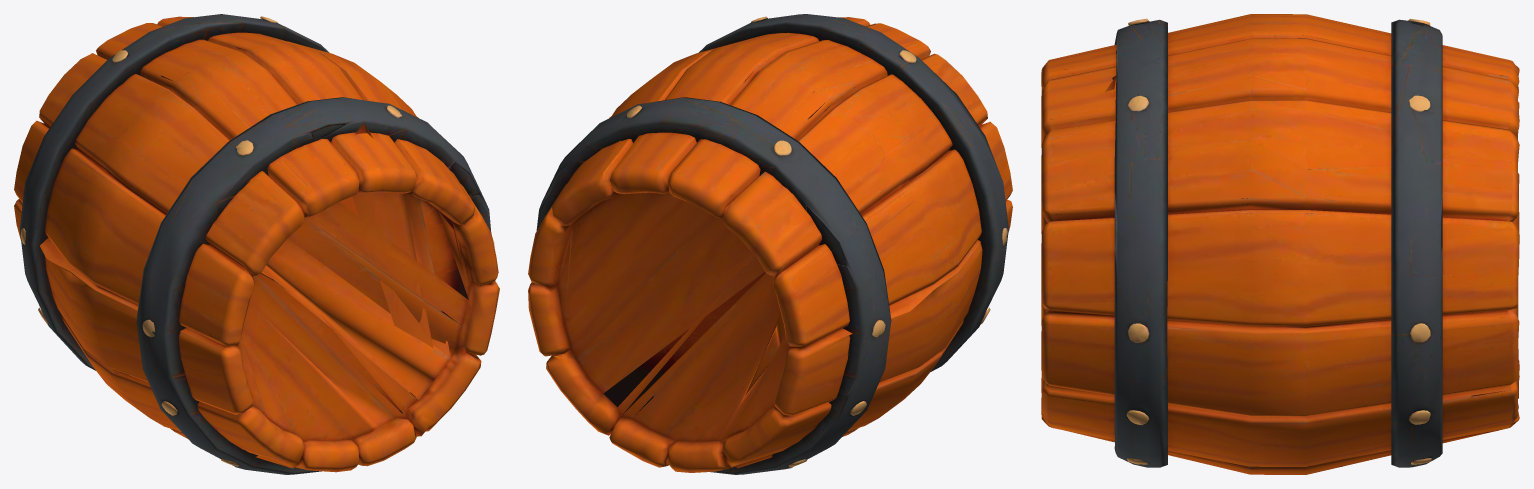
The model's file is barrel.glb.
The picture shows the model from 3 angles, left to right: view 1: azimuth 30°, elevation 25°; view 2: azimuth 150°, elevation 25°; view 3: azimuth 270°, elevation 25°; orthographic projection. The views are drawn at different scales.
Parts seen in each view (by area): view 1: geometry_0; view 2: geometry_0; view 3: geometry_0.
Boxes of the visible parts, left/top/right/bottom form: geometry_0: left=14, top=14, right=499, bottom=474; geometry_0: left=528, top=14, right=1012, bottom=474; geometry_0: left=1041, top=14, right=1519, bottom=474.
Size of the model in its own units: 0.9175 by 0.9175 by 0.9561.
1 material, 1 textured.
